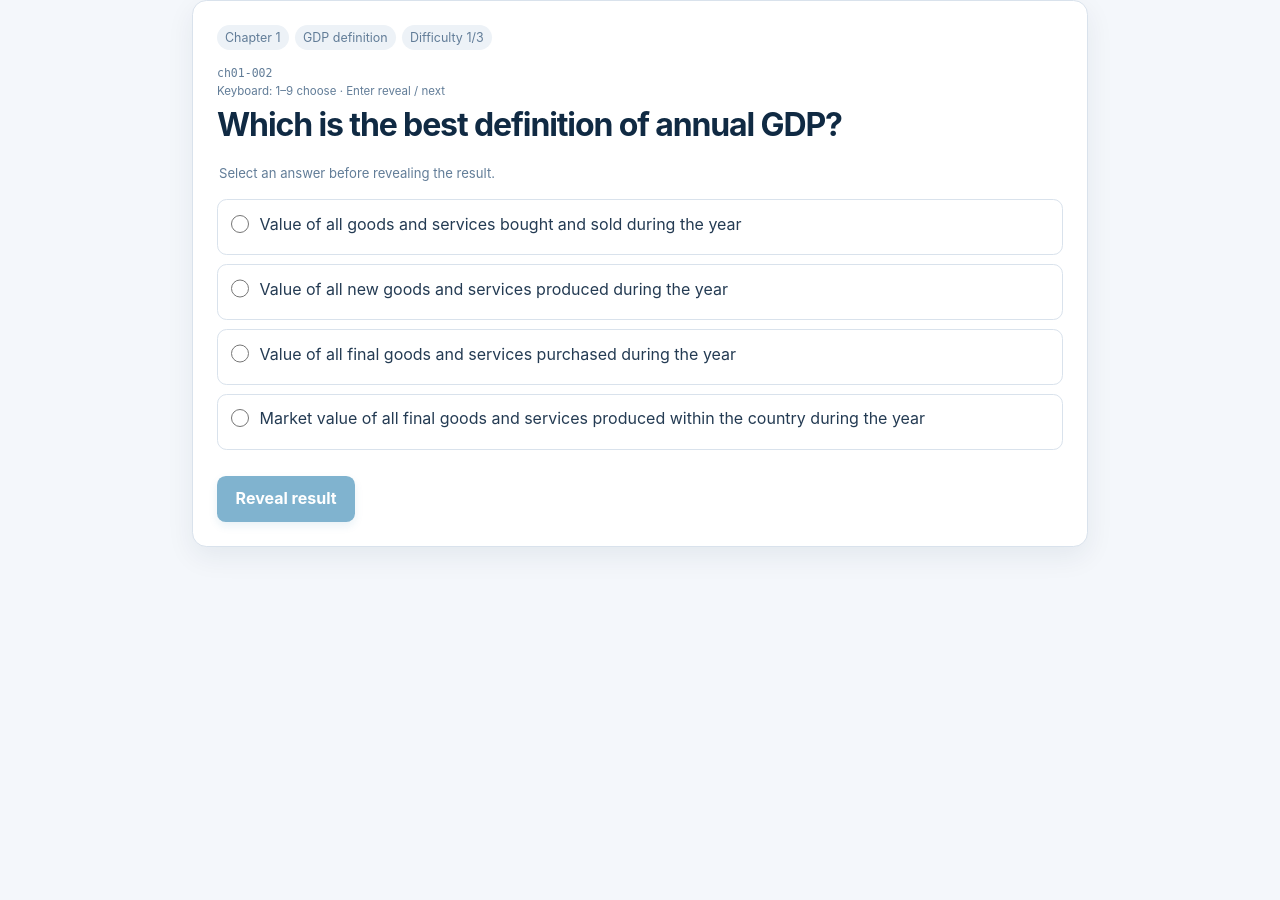
StudyCard › records an authored MCQ selection and objective correctness
Step 1. Click the 4th radio button named "Market value of all final goods and services produced within the country during the year" → (240, 418), box [231,409,249,427]
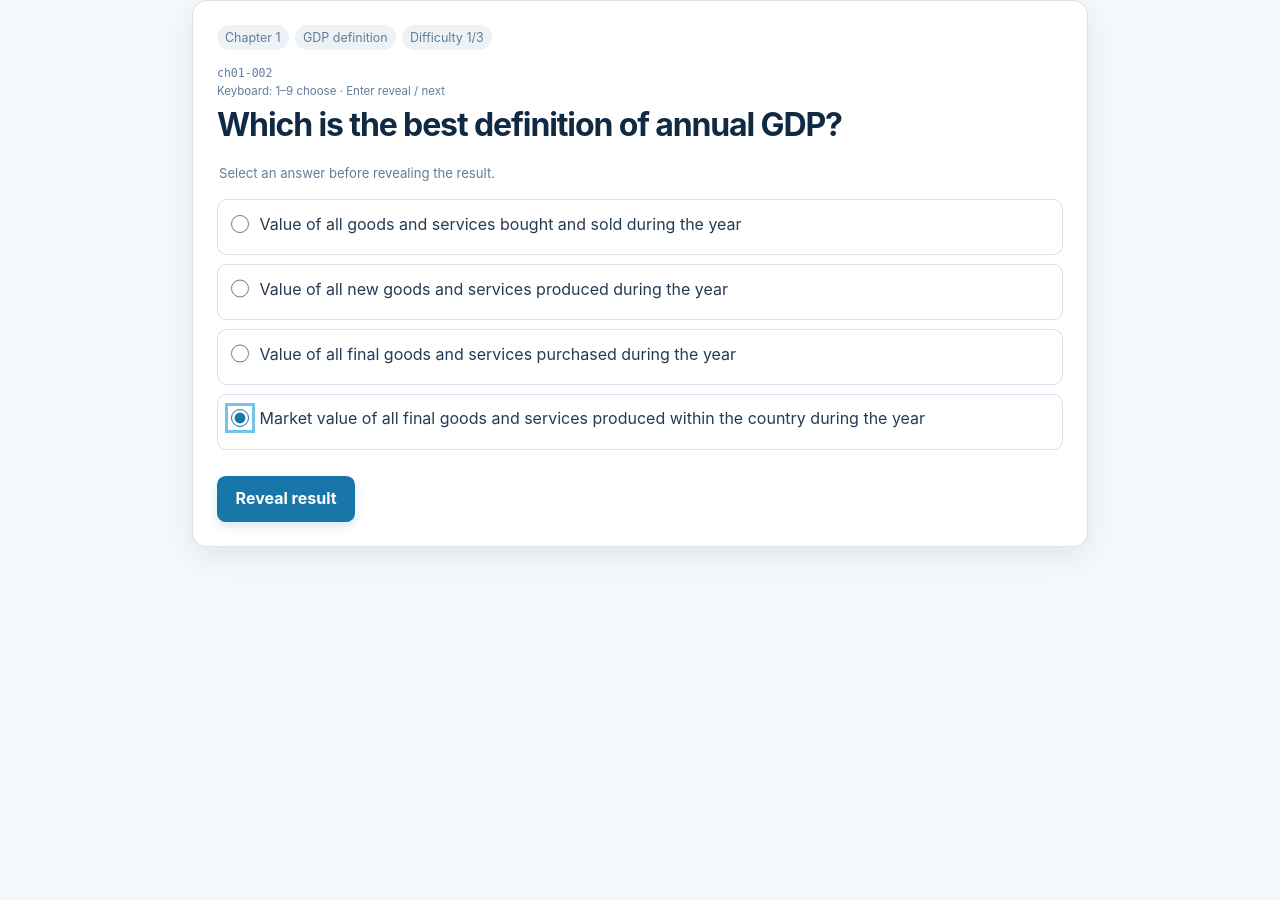
Step 2. Click the button "Reveal result" → (286, 499), box [217,476,355,522]
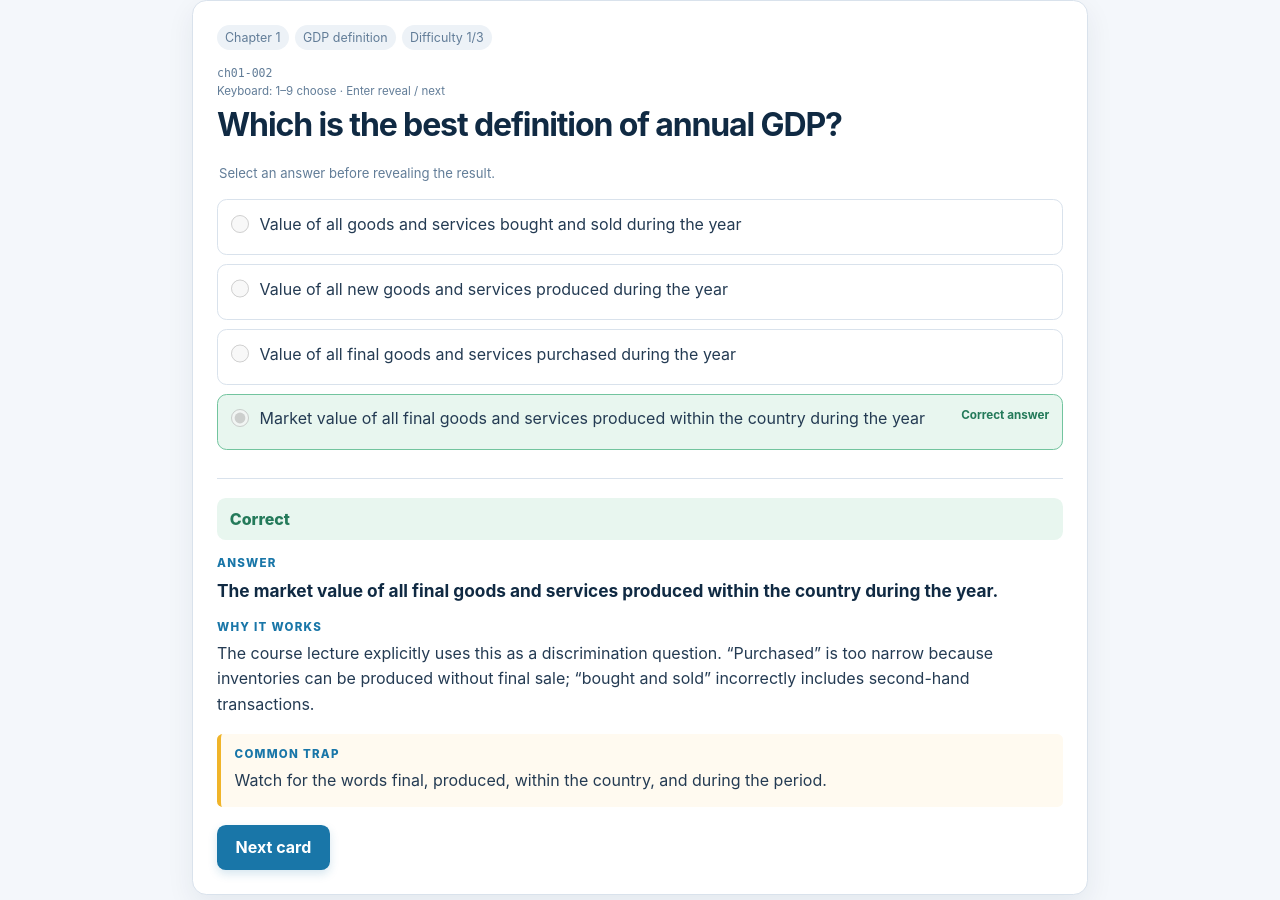
expect the text "Correct" is shown: met, box [217,498,1063,540]
